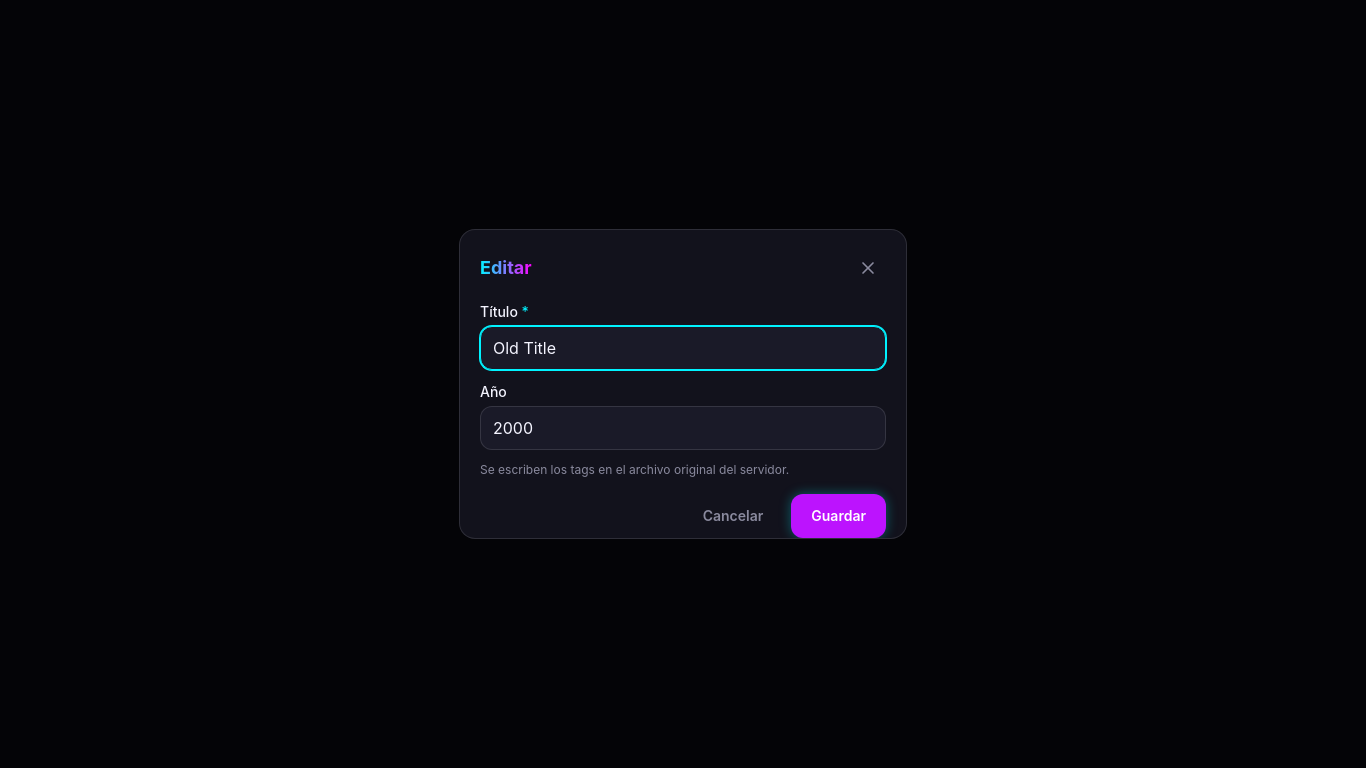
Test: EditMetadataDialog › keeps the dialog open and shows the error when submit rejects
Click the button "Guardar" at (839, 516), box x1=791 y1=494 x2=886 y2=538
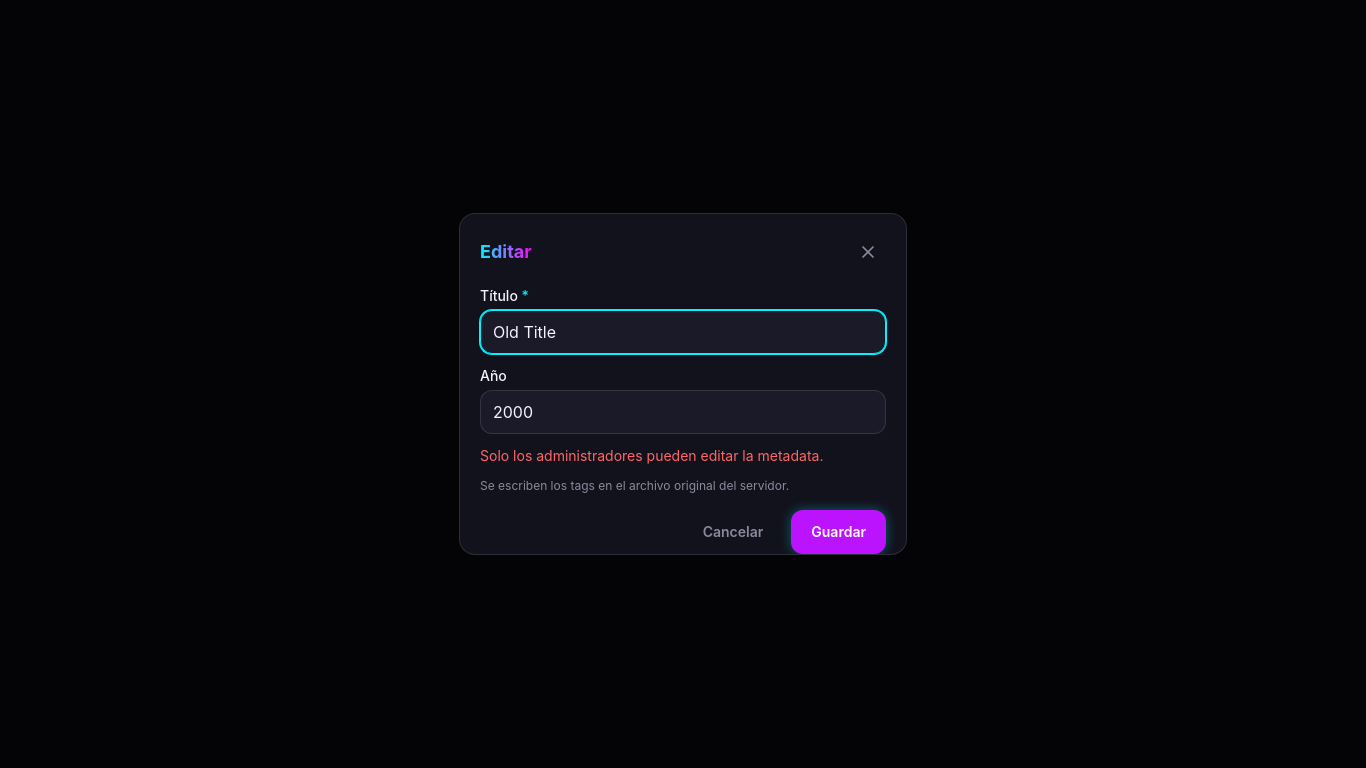
expect the message shows "administradores": met, box x1=480 y1=447 x2=824 y2=464
